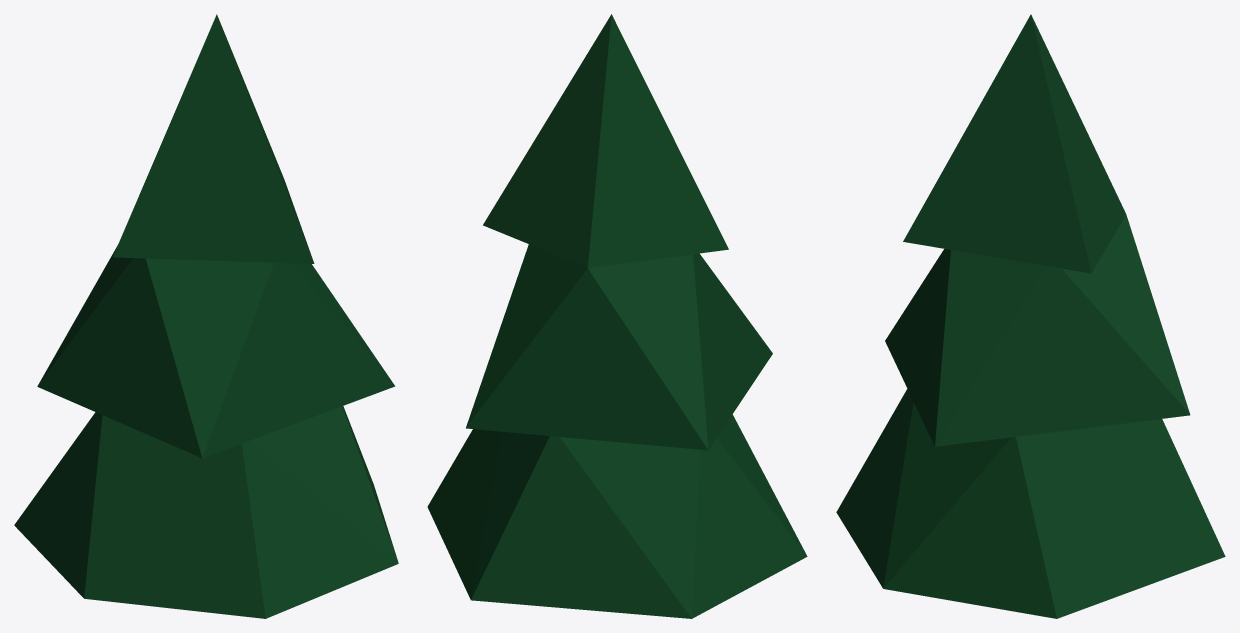
Rendered from tree14.fbx.
3 views of the same model, side by side, from view 1: azimuth 30°, elevation 25°; view 2: azimuth 150°, elevation 25°; view 3: azimuth 270°, elevation 25° (orthographic).
Parts seen in each view (by area): view 1: treetype14; view 2: treetype14; view 3: treetype14.
Part boxes in pixels (bbox=[...]): treetype14: bbox=[14, 14, 398, 618]; treetype14: bbox=[427, 14, 807, 618]; treetype14: bbox=[836, 14, 1225, 618].
Bounding box in the file's own units: 109 × 174 × 110.
